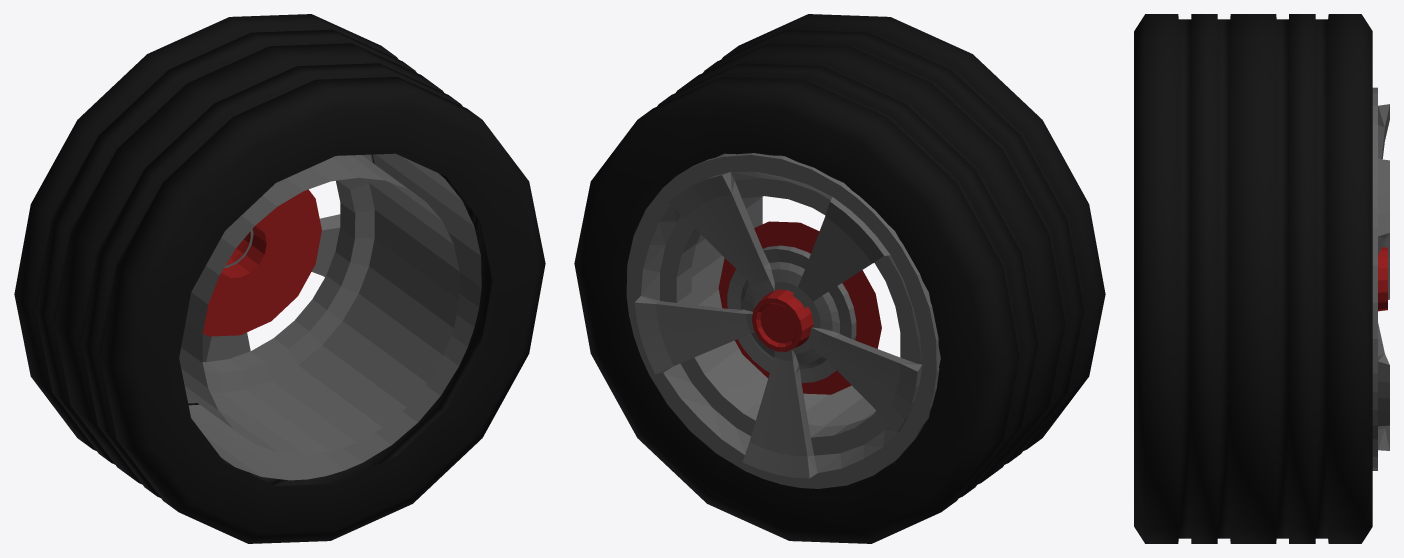
The model's file is Chevrolet_Camaro_SS_front_wheel.obj.
3 renders of one model, left to right at view 1: azimuth 30°, elevation 25°; view 2: azimuth 150°, elevation 25°; view 3: azimuth 270°, elevation 25°, orthographic. The views are drawn at different scales.
Parts seen in each view (by area): view 1: Ruedas_Ad.001_Círculo.010, Rin_1_Ad.001_Plano.004, Rin_2_Ad.001_Círculo.011; view 2: Ruedas_Ad.001_Círculo.010, Rin_1_Ad.001_Plano.004, Rin_2_Ad.001_Círculo.011; view 3: Ruedas_Ad.001_Círculo.010, Rin_1_Ad.001_Plano.004, Rin_2_Ad.001_Círculo.011.
Part boxes in pixels (<box>): Ruedas_Ad.001_Círculo.010: <box>14,14,545,543</box>; Rin_1_Ad.001_Plano.004: <box>179,153,481,480</box>; Rin_2_Ad.001_Círculo.011: <box>202,189,321,336</box>; Ruedas_Ad.001_Círculo.010: <box>574,14,1105,543</box>; Rin_1_Ad.001_Plano.004: <box>626,153,940,488</box>; Rin_2_Ad.001_Círculo.011: <box>718,221,881,394</box>; Ruedas_Ad.001_Círculo.010: <box>1134,14,1372,543</box>; Rin_1_Ad.001_Plano.004: <box>1372,87,1389,470</box>; Rin_2_Ad.001_Círculo.011: <box>1378,247,1387,311</box>.
Size of the model in its own units: 0.7012 by 0.7012 by 0.3381.
